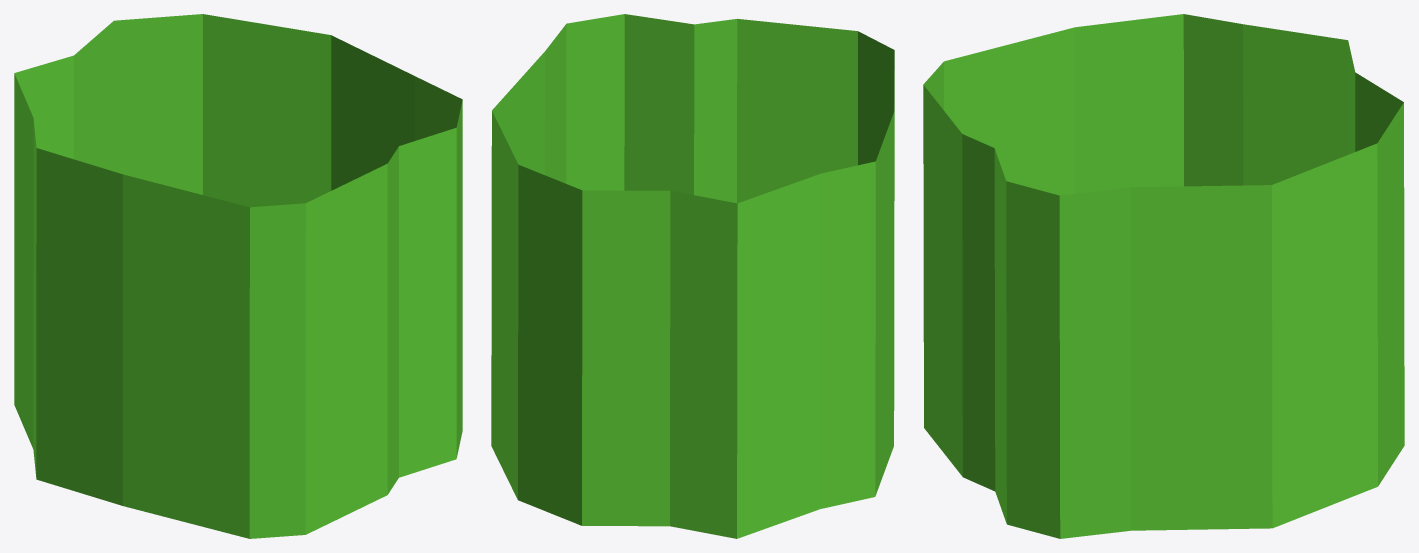
Rendered from InvWall5.fbx.
The picture shows the model from 3 angles, left to right: view 1: azimuth 30°, elevation 25°; view 2: azimuth 150°, elevation 25°; view 3: azimuth 270°, elevation 25°; orthographic projection. The views are drawn at different scales.
Visible parts, largest first — view 1: Island 5.001; view 2: Island 5.001; view 3: Island 5.001.
Part boxes in pixels (x1,y1,x2,y2): Island 5.001: [14, 14, 462, 538]; Island 5.001: [491, 14, 894, 538]; Island 5.001: [923, 14, 1404, 538].
Bounding box in the file's own units: 1155 × 1016 × 1271.
